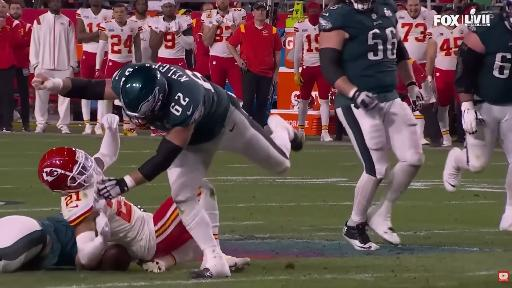Helmet: (112, 64, 167, 126), (38, 147, 101, 192), (346, 0, 376, 11), (503, 0, 511, 29)
Jersey: (320, 0, 398, 102), (152, 64, 235, 145), (61, 189, 155, 259), (469, 14, 511, 105), (28, 214, 77, 269), (397, 8, 436, 63), (427, 25, 467, 70), (99, 21, 141, 62), (150, 17, 185, 58), (294, 20, 319, 66), (129, 16, 152, 62), (76, 8, 112, 32), (210, 22, 234, 57)
Player: (33, 64, 302, 277), (320, 0, 423, 249), (38, 115, 200, 271), (443, 0, 511, 191), (294, 2, 332, 141), (426, 25, 467, 146), (0, 214, 80, 273), (201, 0, 246, 99), (0, 215, 76, 272), (96, 4, 141, 78), (150, 0, 193, 68), (76, 0, 112, 78), (397, 0, 436, 69), (129, 0, 153, 62), (129, 0, 152, 62), (193, 19, 210, 80)
